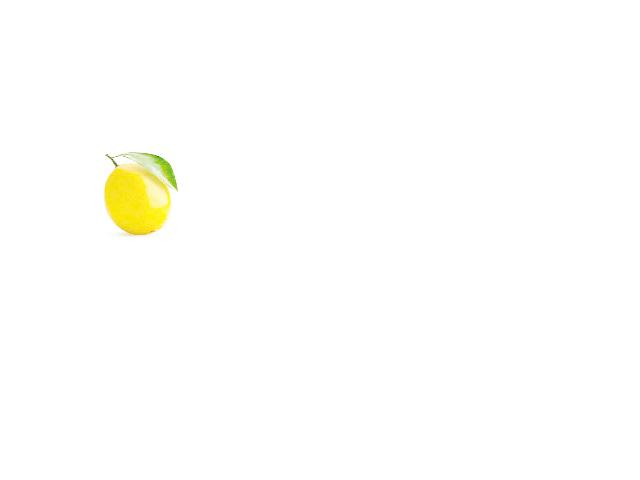lemon: (101, 154, 175, 237)
